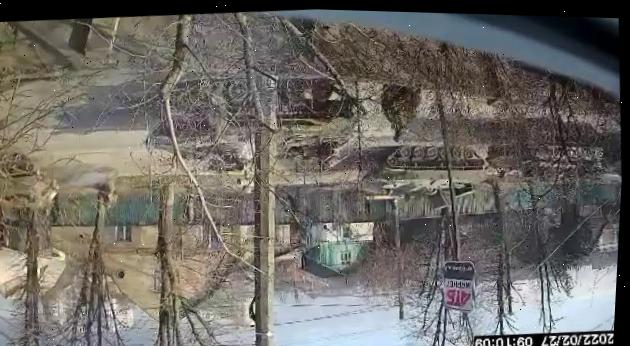person: (376, 76, 426, 144), (96, 162, 123, 208)
tank: (139, 64, 366, 179), (357, 137, 488, 216), (483, 113, 603, 196), (0, 148, 62, 229), (598, 128, 624, 177)
